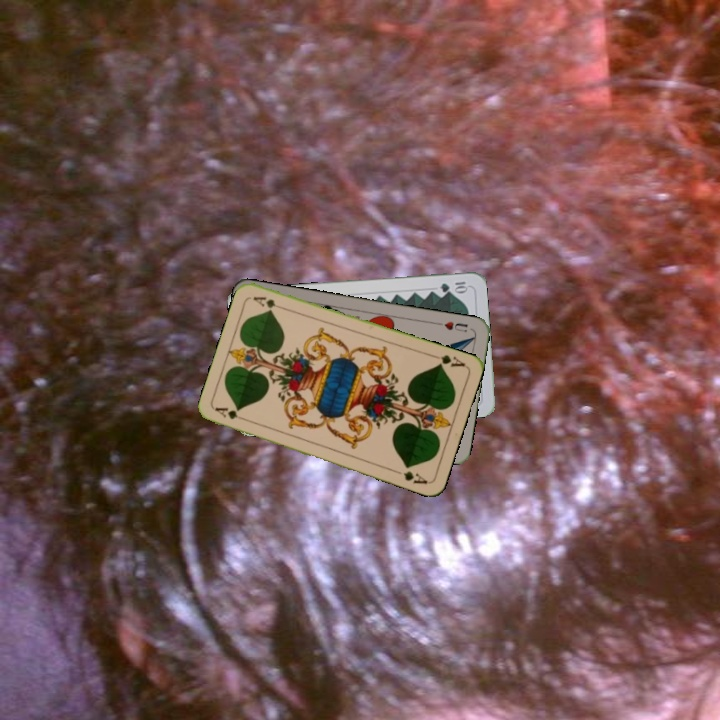G10: (436, 277, 470, 294)
GA: (211, 403, 251, 424), (428, 350, 468, 370)
HU: (434, 317, 470, 335)
